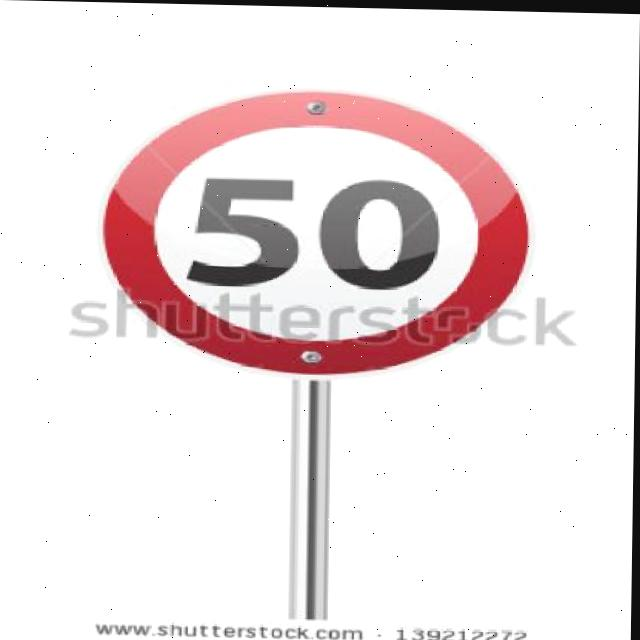Speed limit 50: (94, 79, 540, 386)
